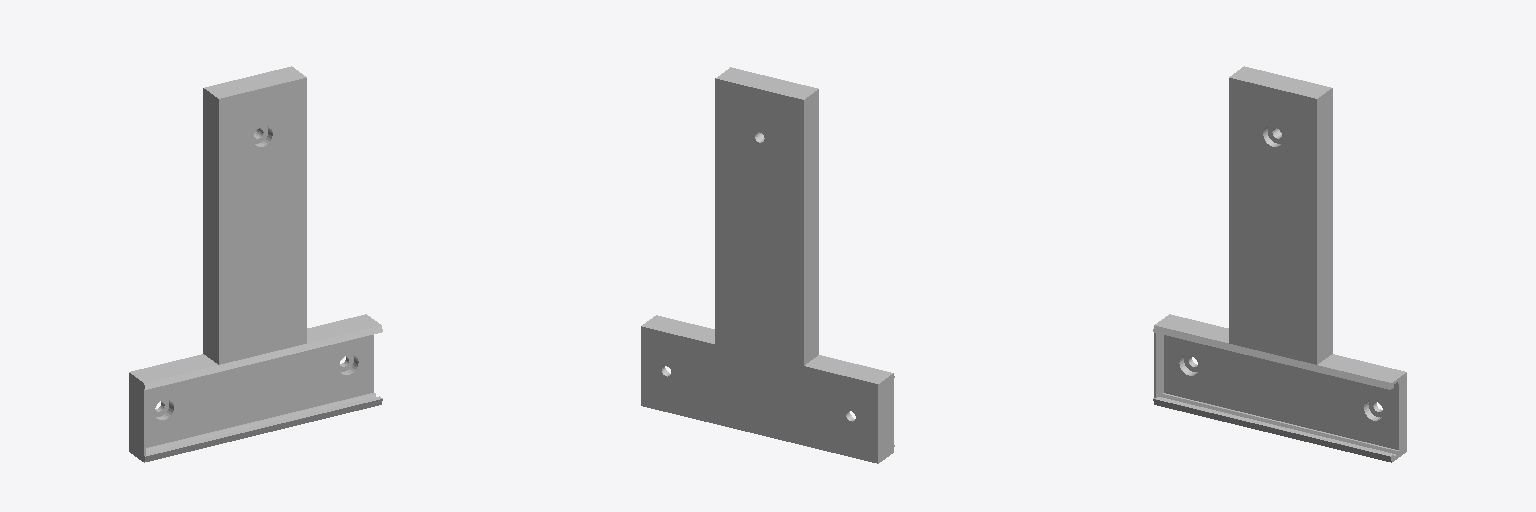
File: VIT-Rooms_wall_mount_without_label.obj
3 views of the same model, side by side, from view 1: azimuth 30°, elevation 25°; view 2: azimuth 150°, elevation 25°; view 3: azimuth 330°, elevation 25° (orthographic).
Visible parts, largest first — view 1: VIT-Rooms-Display Holder (1); view 2: VIT-Rooms-Display Holder (1); view 3: VIT-Rooms-Display Holder (1).
Part boxes in pixels (left/top/right/bottom): VIT-Rooms-Display Holder (1): left=129, top=66, right=382, bottom=462; VIT-Rooms-Display Holder (1): left=641, top=67, right=894, bottom=463; VIT-Rooms-Display Holder (1): left=1153, top=66, right=1406, bottom=462.
Bounding box in the file's own units: 12.1 × 16.83 × 1.47.